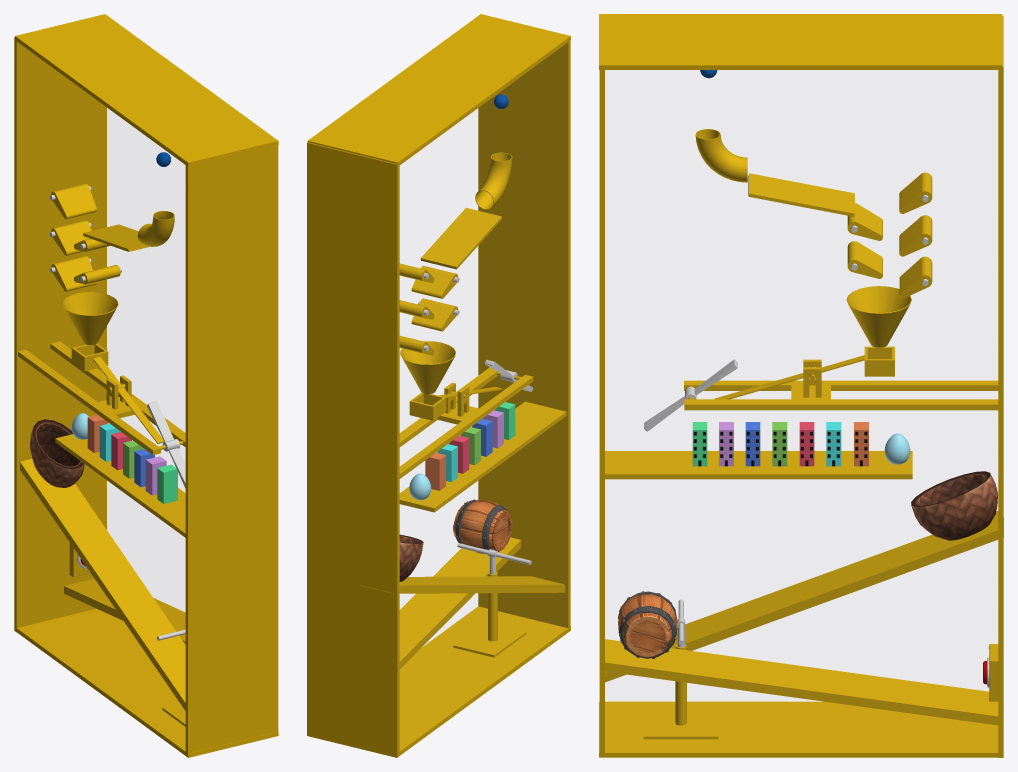
File: Goldberg 1 6.fbx
The picture shows the model from 3 angles, left to right: view 1: azimuth 30°, elevation 25°; view 2: azimuth 150°, elevation 25°; view 3: azimuth 270°, elevation 25°; orthographic projection. The views are drawn at different scales.
Visible parts, largest first — view 1: Masina_1_ram, Postolje2, Nova_klackalica, Postolje1, Korpa, Levak, Kasinka_nova, Postolje3, Fliper4, Dascica_1, Fliper3, Elise (+10 smaller); view 2: Masina_1_ram, Postolje3, Postolje1, Nova_klackalica, Postolje2, Burence, Dascica_1, Stalak, Levak, Tunel, Kasinka_nova, Fliper (+11 smaller); view 3: Masina_1_ram, Postolje3, Postolje2, Nova_klackalica, Postolje1, Korpa, Burence, Levak, Dascica_1, Stalak, Kasinka_nova, Tunel (+13 smaller).
Boxes of the visible parts, bbox=[...] form: Masina_1_ram: bbox=[14, 14, 278, 757]; Postolje2: bbox=[20, 458, 185, 710]; Nova_klackalica: bbox=[18, 341, 185, 454]; Postolje1: bbox=[55, 434, 185, 537]; Korpa: bbox=[30, 419, 84, 487]; Levak: bbox=[62, 292, 118, 344]; Kasinka_nova: bbox=[71, 343, 164, 443]; Postolje3: bbox=[64, 578, 185, 644]; Fliper4: bbox=[49, 183, 96, 218]; Dascica_1: bbox=[83, 224, 149, 251]; Fliper3: bbox=[50, 256, 96, 291]; Elise: bbox=[147, 401, 185, 488]; Masina_1_ram: bbox=[307, 14, 570, 757]; Postolje3: bbox=[399, 537, 520, 669]; Postolje1: bbox=[399, 401, 566, 512]; Nova_klackalica: bbox=[399, 367, 533, 478]; Postolje2: bbox=[360, 576, 565, 593]; Burence: bbox=[453, 499, 512, 554]; Dascica_1: bbox=[420, 207, 502, 269]; Stalak: bbox=[453, 571, 526, 657]; Levak: bbox=[400, 341, 455, 394]; Tunel: bbox=[475, 152, 512, 210]; Kasinka_nova: bbox=[409, 387, 502, 420]; Fliper: bbox=[411, 266, 459, 298]; Masina_1_ram: bbox=[599, 14, 1003, 757]; Postolje3: bbox=[605, 639, 998, 725]; Postolje2: bbox=[605, 511, 1003, 682]; Nova_klackalica: bbox=[684, 359, 998, 410]; Postolje1: bbox=[605, 451, 912, 479]; Korpa: bbox=[911, 471, 997, 540]; Burence: bbox=[618, 591, 677, 658]; Levak: bbox=[846, 286, 911, 347]; Dascica_1: bbox=[748, 173, 854, 216]; Stalak: bbox=[643, 644, 718, 739]; Kasinka_nova: bbox=[714, 346, 894, 399]; Tunel: bbox=[695, 129, 747, 182].
Size of the model in its own units: 7.94 by 49.06 by 25.98.
Materials: 17 (10 with a texture image).
